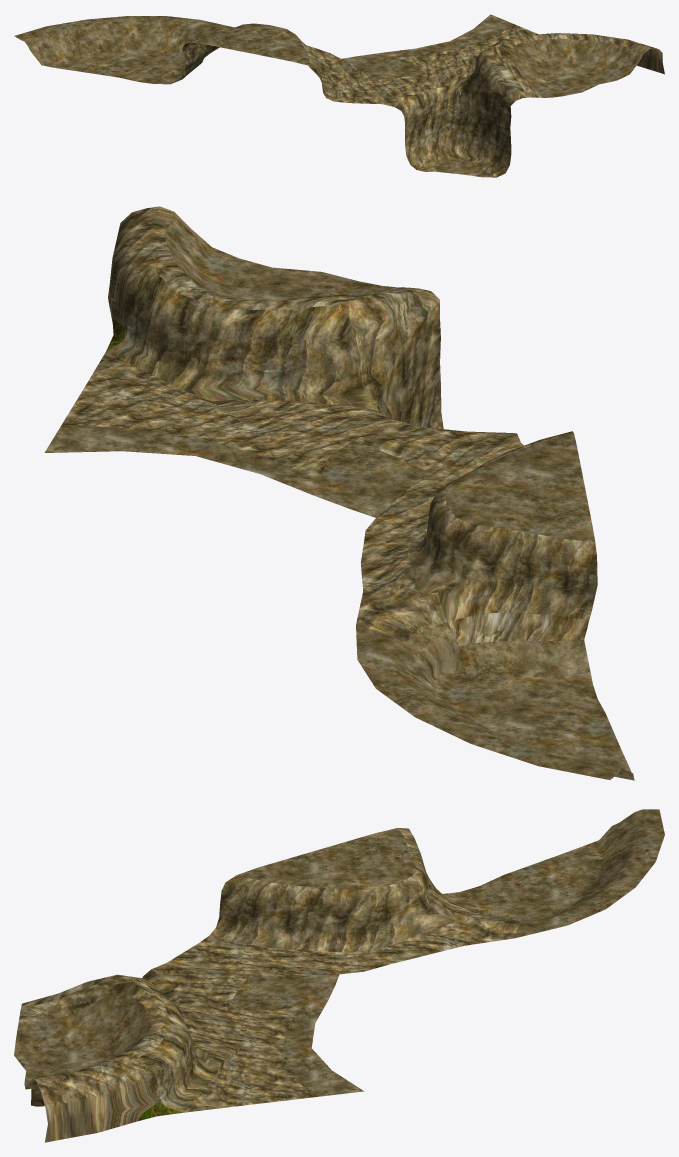
Rendered from RM_PLAYSURFACE_FINAL_MESH01.fbx.
The picture shows the model from 3 angles, top to bottom: view 1: azimuth 30°, elevation 25°; view 2: azimuth 150°, elevation 25°; view 3: azimuth 270°, elevation 25°; orthographic projection. The views are drawn at different scales.
Visible parts, largest first — view 1: RM_PLAYSURFACE_FINAL_MESH01; view 2: RM_PLAYSURFACE_FINAL_MESH01; view 3: RM_PLAYSURFACE_FINAL_MESH01.
Boxes of the visible parts, x1,y1,x2,y2 form: RM_PLAYSURFACE_FINAL_MESH01: (14, 14, 664, 177); RM_PLAYSURFACE_FINAL_MESH01: (44, 206, 634, 780); RM_PLAYSURFACE_FINAL_MESH01: (14, 809, 664, 1142).
Size of the model in its own units: 453736 by 97676 by 374530.
Materials: 4 (4 with a texture image).
